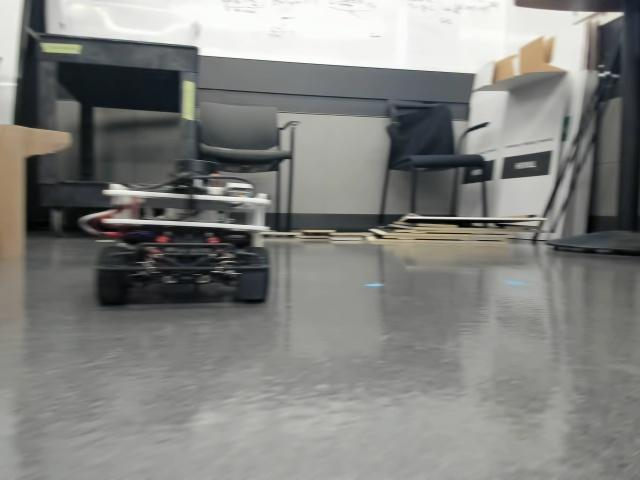Car: (80, 155, 270, 308)
